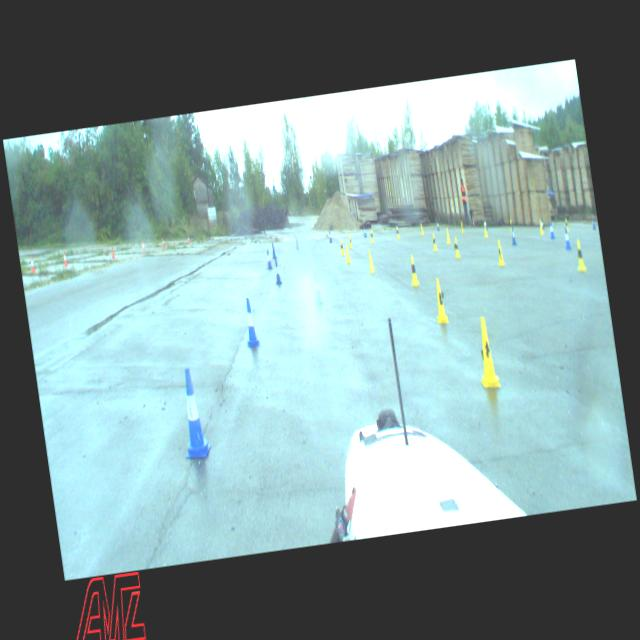blue_cone: (175, 367, 212, 460), (241, 297, 260, 347), (310, 271, 324, 305), (273, 258, 282, 284), (562, 227, 572, 250), (548, 222, 556, 240), (509, 227, 516, 245), (266, 249, 272, 269), (271, 242, 277, 258), (294, 237, 300, 250), (328, 230, 332, 242), (592, 218, 596, 230), (363, 226, 367, 237), (436, 220, 440, 230)
orange_cone: (30, 256, 36, 272), (62, 251, 68, 266), (110, 245, 116, 258), (141, 241, 146, 252), (161, 238, 166, 248), (187, 234, 190, 244)
yellow_cone: (474, 317, 501, 390), (432, 278, 449, 324), (408, 254, 420, 286), (574, 240, 586, 272), (496, 240, 506, 266), (366, 250, 376, 273), (453, 237, 461, 259), (344, 243, 351, 263), (432, 234, 438, 252), (338, 238, 344, 256), (445, 228, 451, 244), (538, 220, 544, 236), (482, 223, 488, 237), (348, 234, 353, 248), (565, 218, 569, 232), (396, 227, 400, 239), (370, 230, 374, 242), (460, 222, 464, 234), (420, 224, 424, 235)
